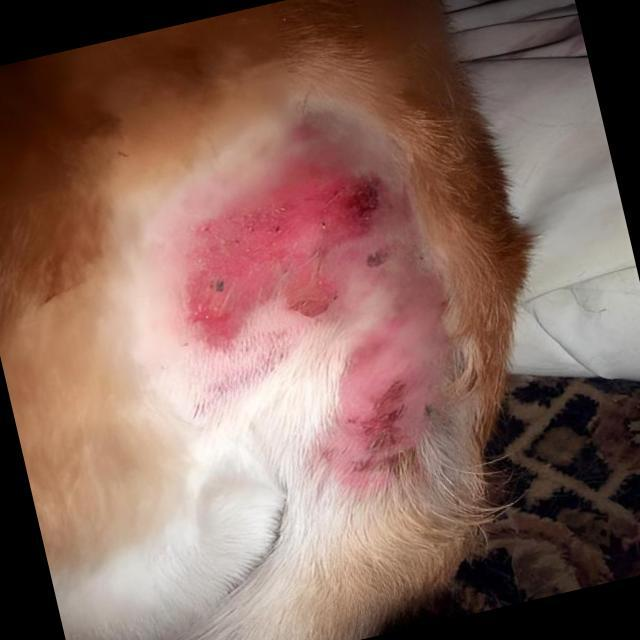allergic dermatitis: (170, 102, 448, 490)
